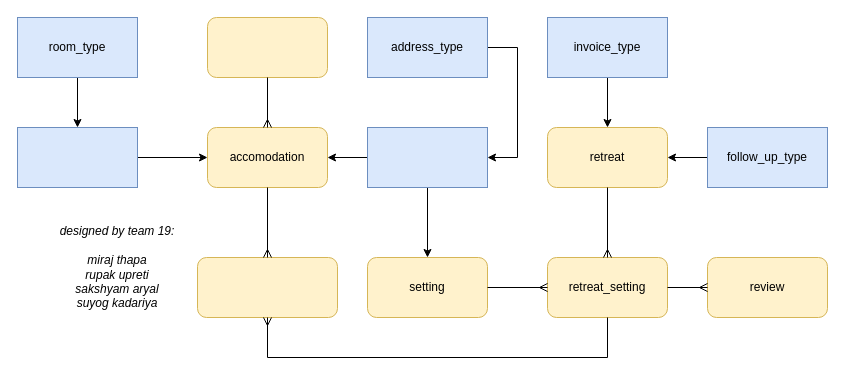
The diagram is 845 pixels wide and 383 high, and some of its shapes have lost their labels. The shapes that lost their labels are listed below. From the top down, each one's centre as x and y in pixels, then its label:
At [267,47]: "accomodation_style".
At [77,157]: "room_varray_type".
At [427,157]: "address".
At [267,287]: "retreat_accomodation".
